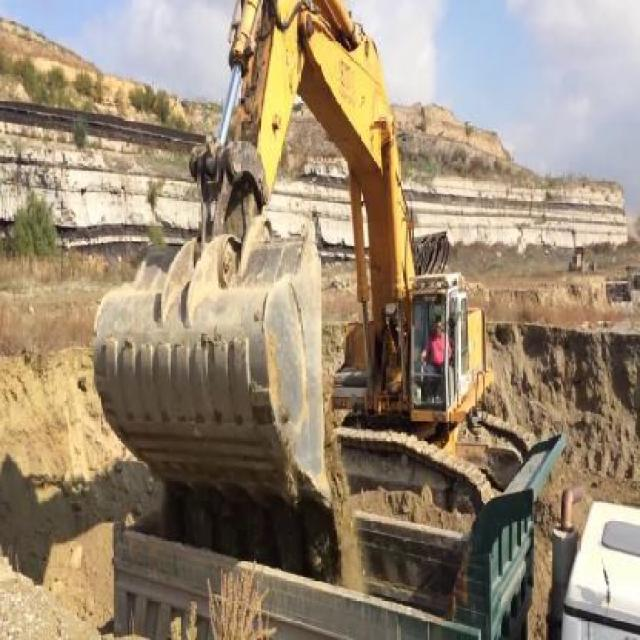Dump Truck: (104, 455, 639, 639)
Excavator: (94, 0, 532, 502)
